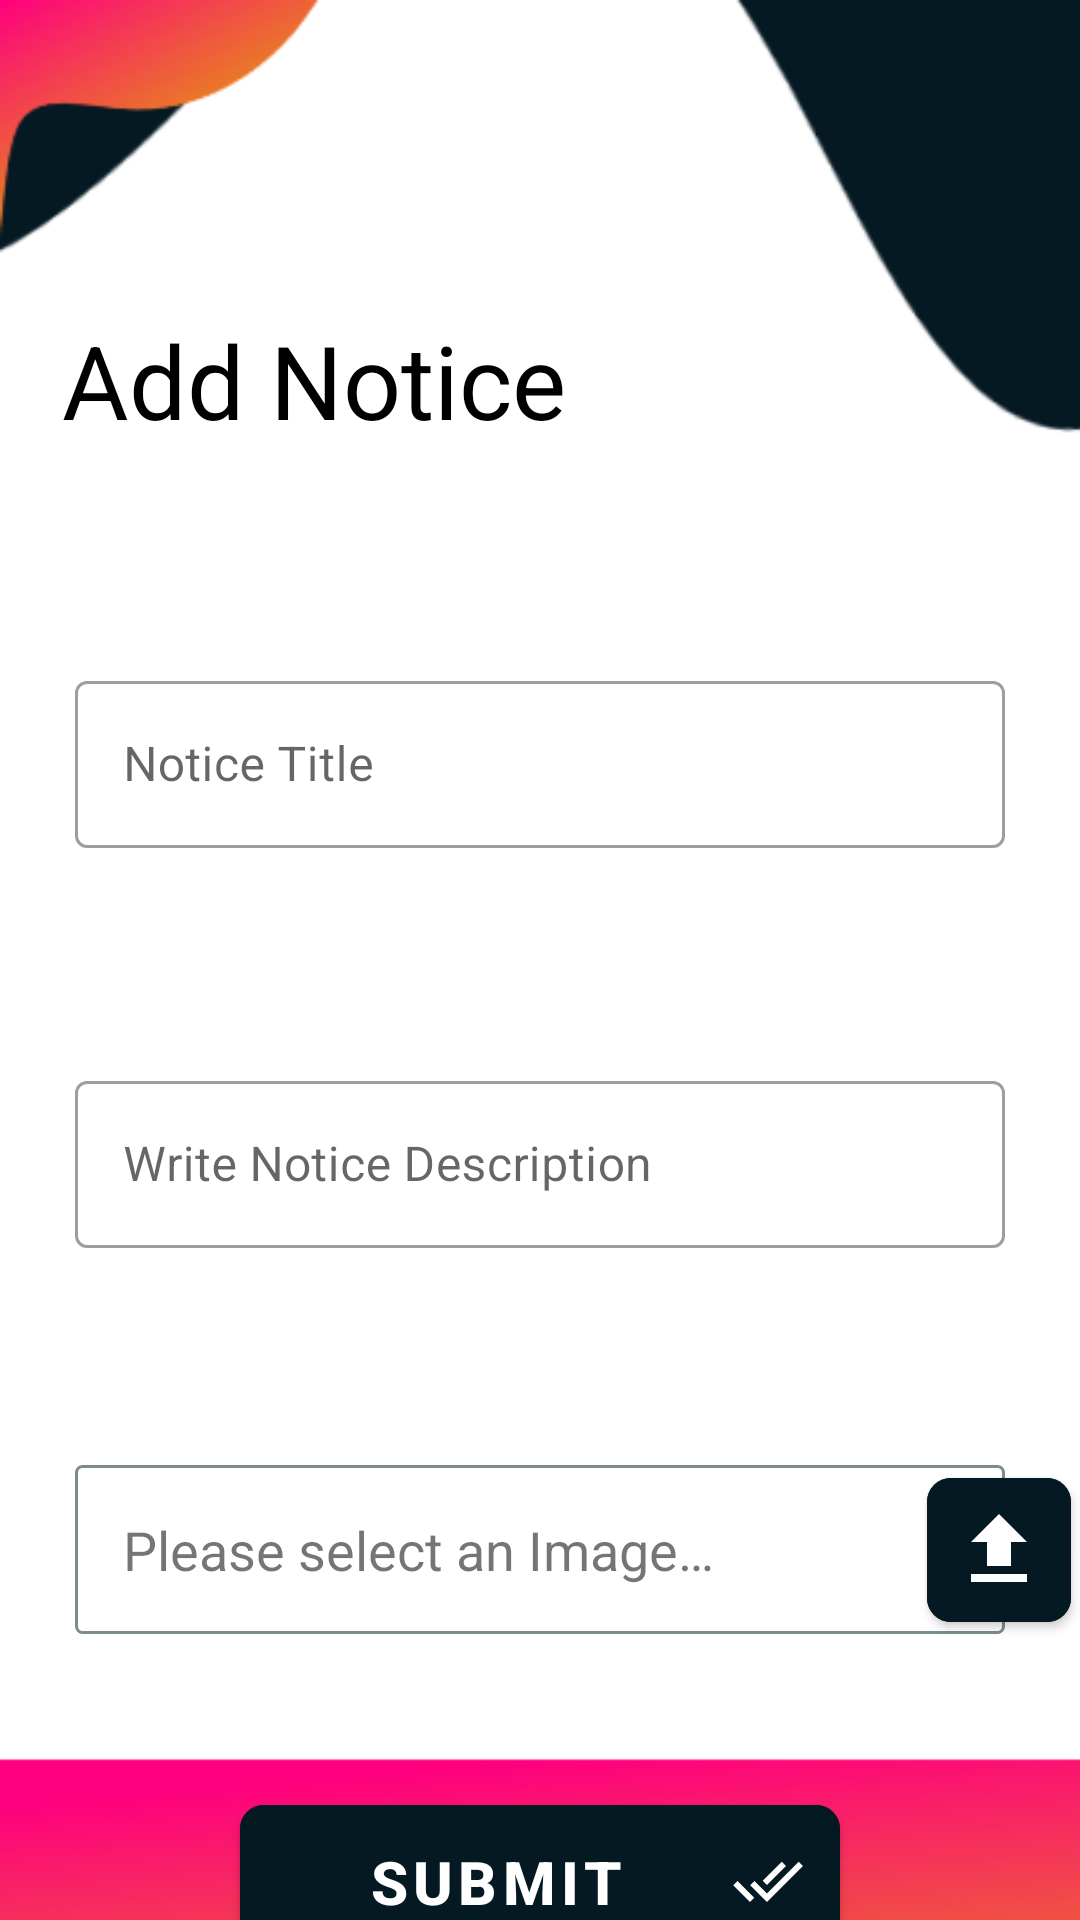

Named icons in this screenshot (1080x1920) and their centers, [x,y]:
file upload: [999,1549]
